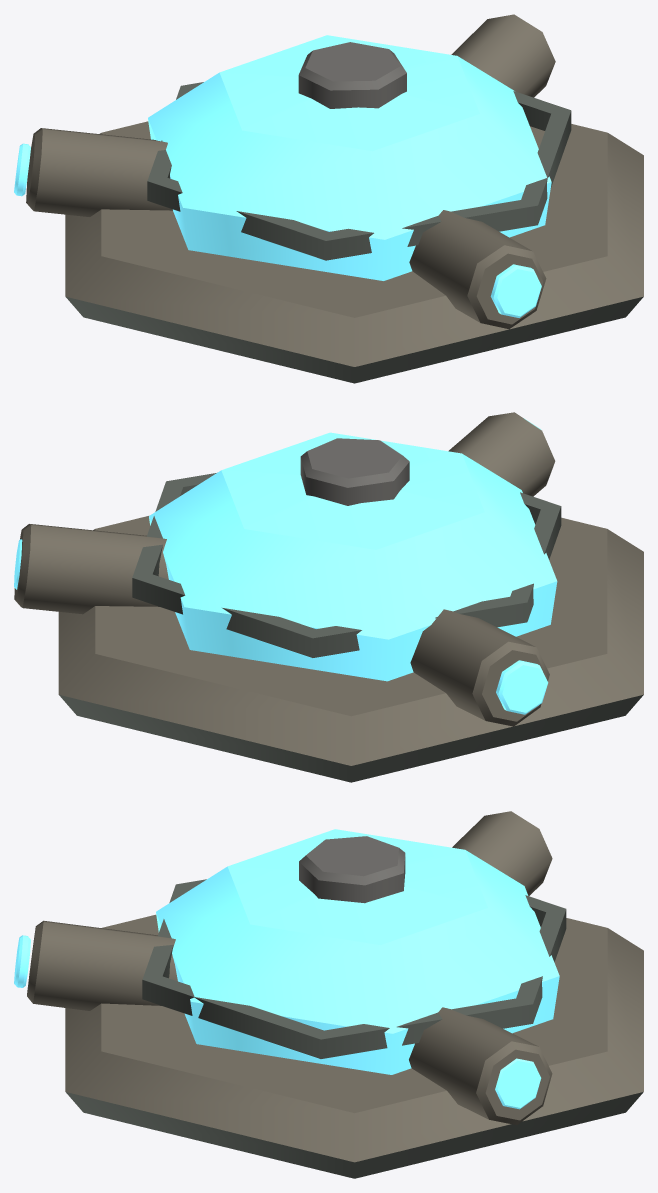
File: R4D_SlowTrap_LOD1.fbx
The picture shows the model from 3 angles, top to bottom: view 1: azimuth 30°, elevation 25°; view 2: azimuth 150°, elevation 25°; view 3: azimuth 270°, elevation 25°; orthographic projection.
Parts seen in each view (by area): view 1: R4D_SlowTrap_LOD1; view 2: R4D_SlowTrap_LOD1; view 3: R4D_SlowTrap_LOD1.
Boxes of the visible parts, left/top/right/bottom form: R4D_SlowTrap_LOD1: left=14, top=14, right=643, bottom=383; R4D_SlowTrap_LOD1: left=14, top=412, right=643, bottom=782; R4D_SlowTrap_LOD1: left=14, top=811, right=643, bottom=1178.
Bounding box in the file's own units: 0.48 × 0.15 × 0.4526.
